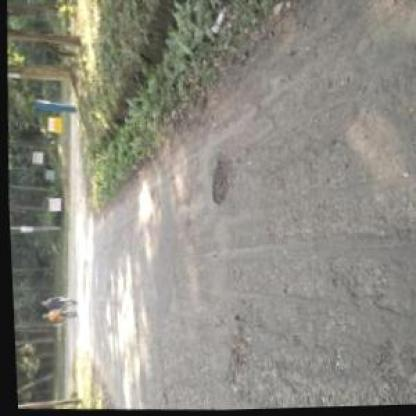pothole: (205, 151, 239, 204), (224, 322, 249, 364)
